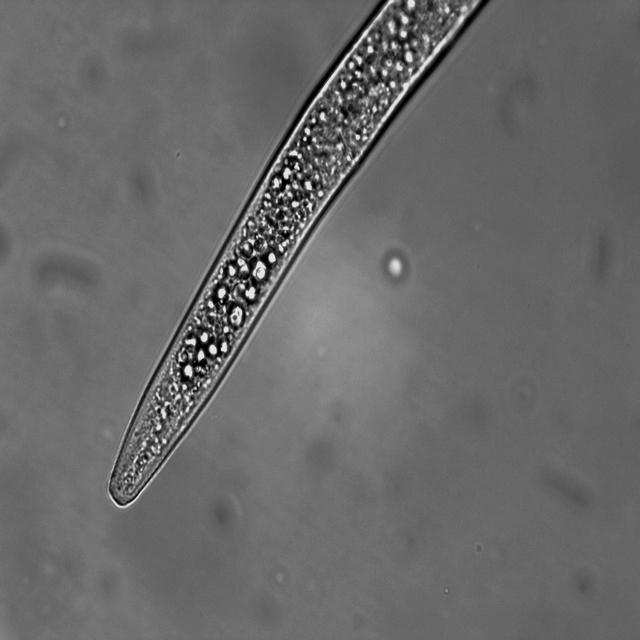Pratylenchus: (101, 0, 494, 512)
